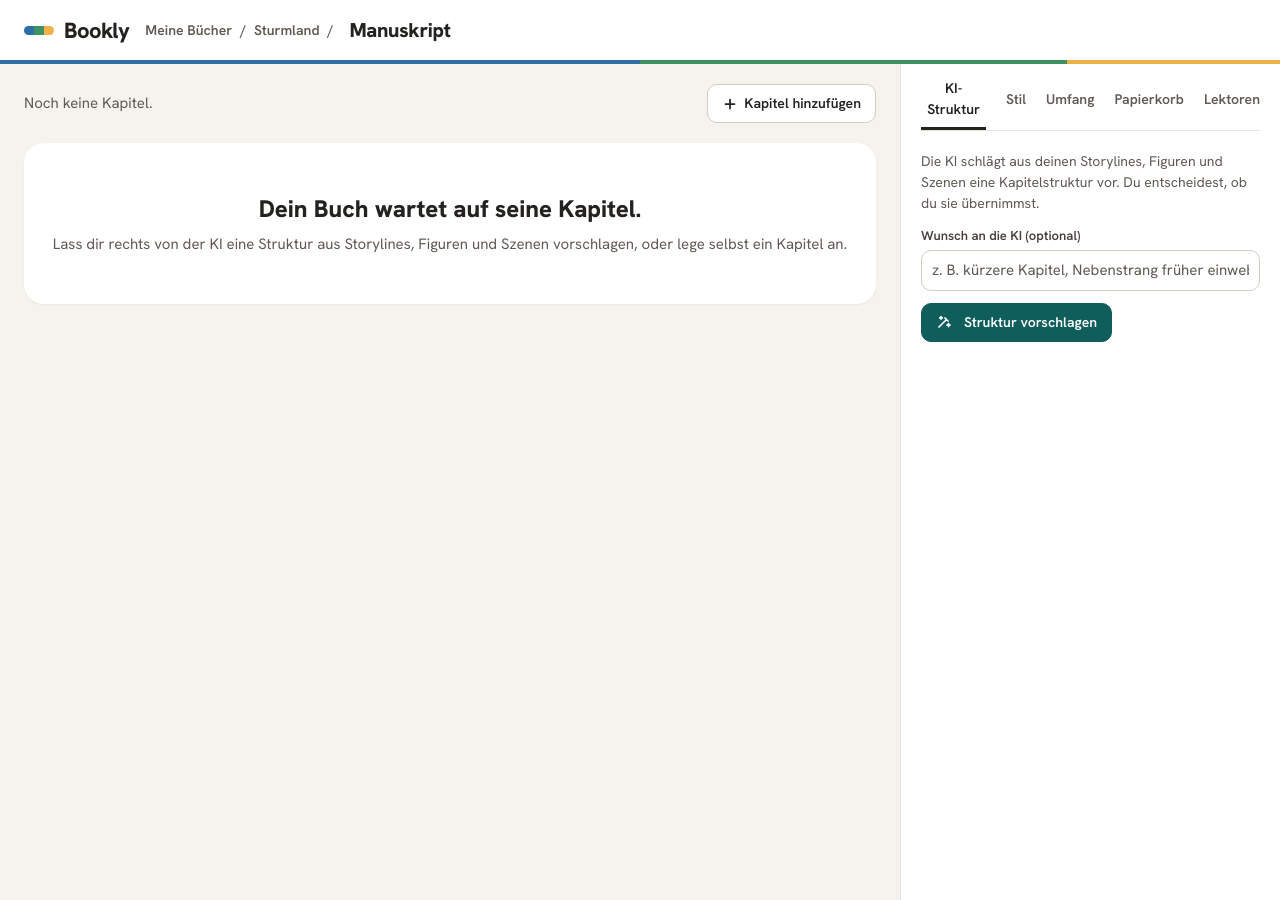
Scenario: LengthPanel › rejects min above max and empty input without a request
This screenshot has width=1280, height=900.
Click the tab "Umfang". click: point(1070, 99)
box: [1046,68,1094,130]
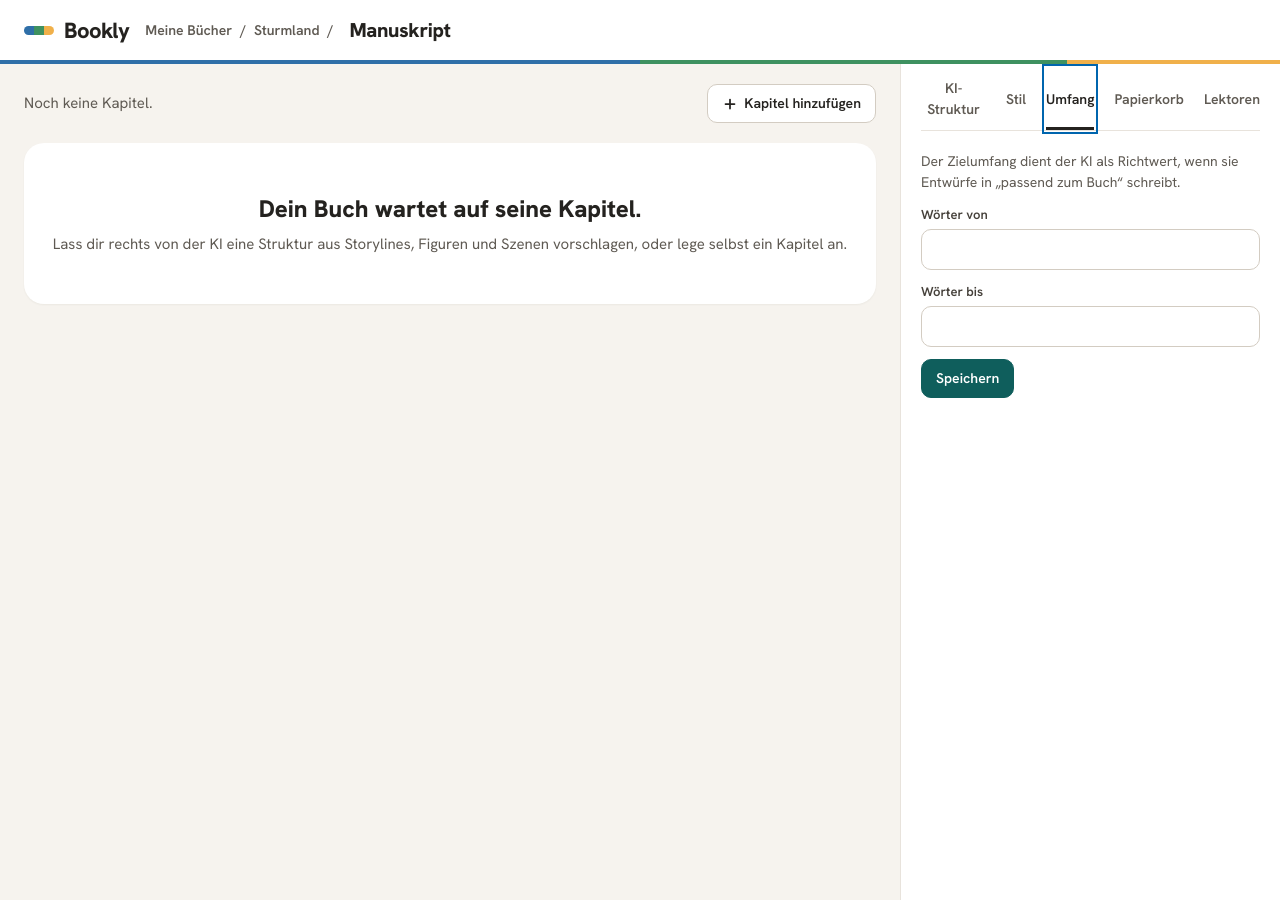
Click the button "Speichern". click: point(968, 378)
box: [921,359,1014,398]
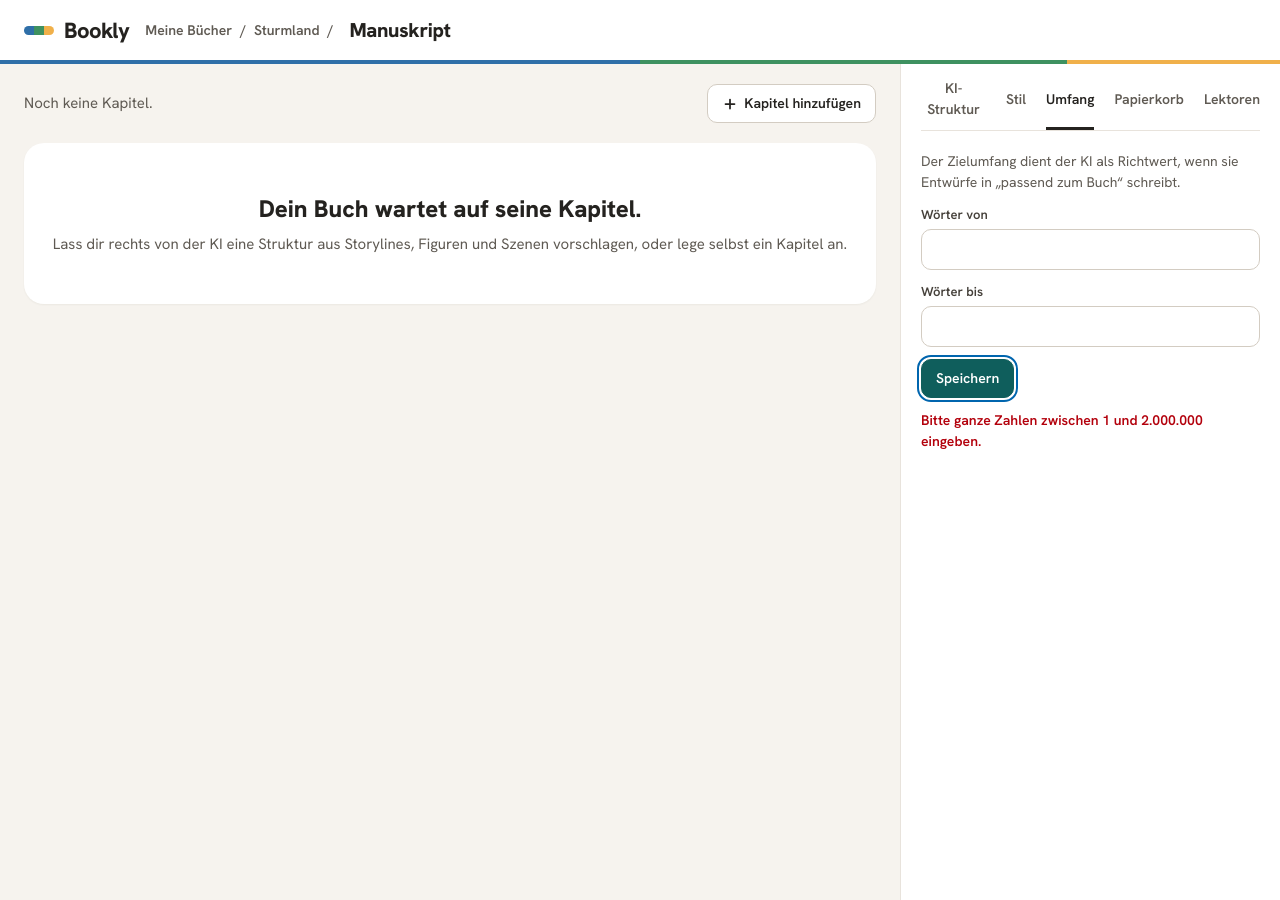
expect the message reads "Bitte ganze Zahlen zwischen 1 und 2.000.000 eingeben.": met, box [921,411,1203,450]
Type "900" into the number field labelled "Wörter von". click: point(1090, 250)
box: [921,229,1260,270]
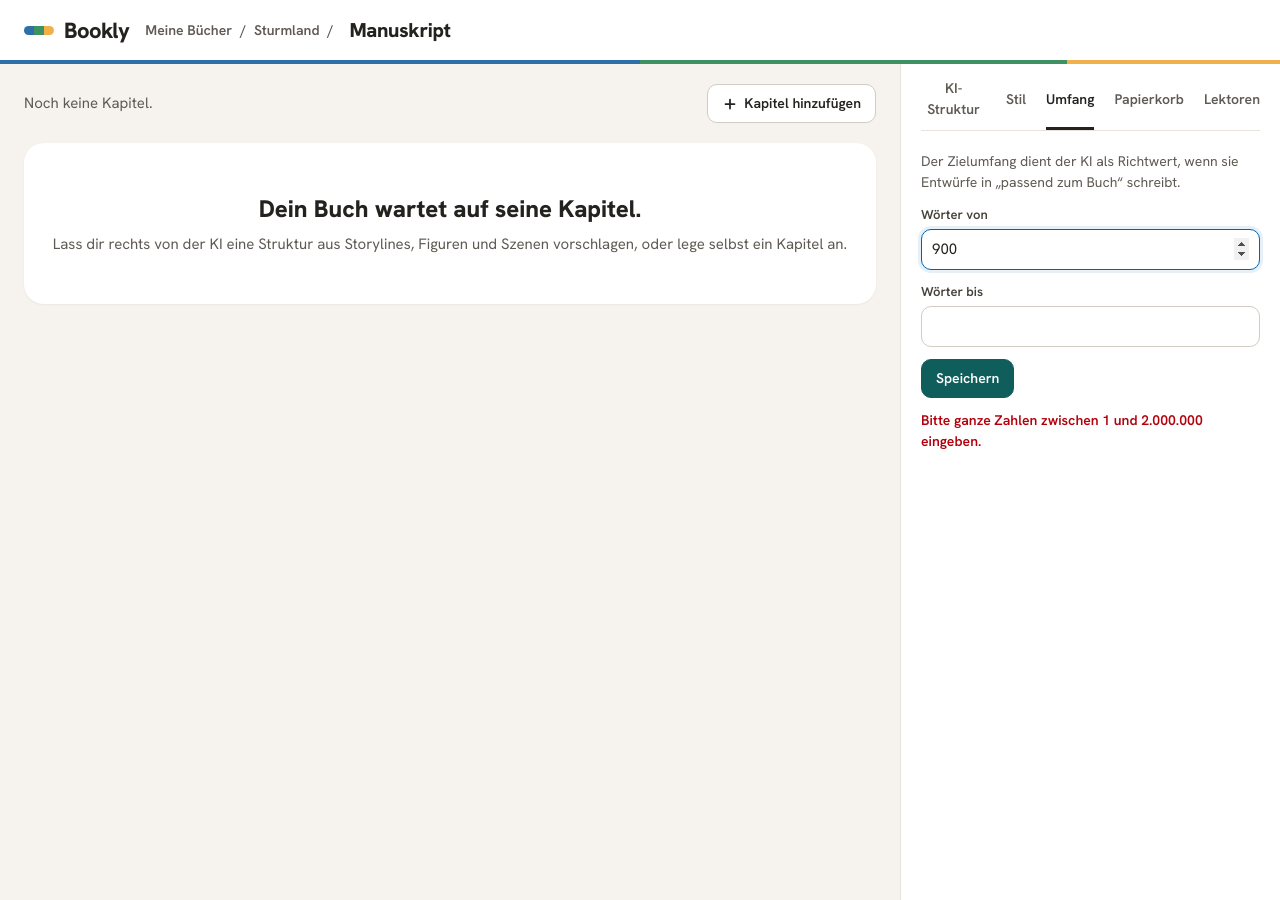
Type "100" into the number field labelled "Wörter bis". click: point(1090, 326)
box: [921,306,1260,347]
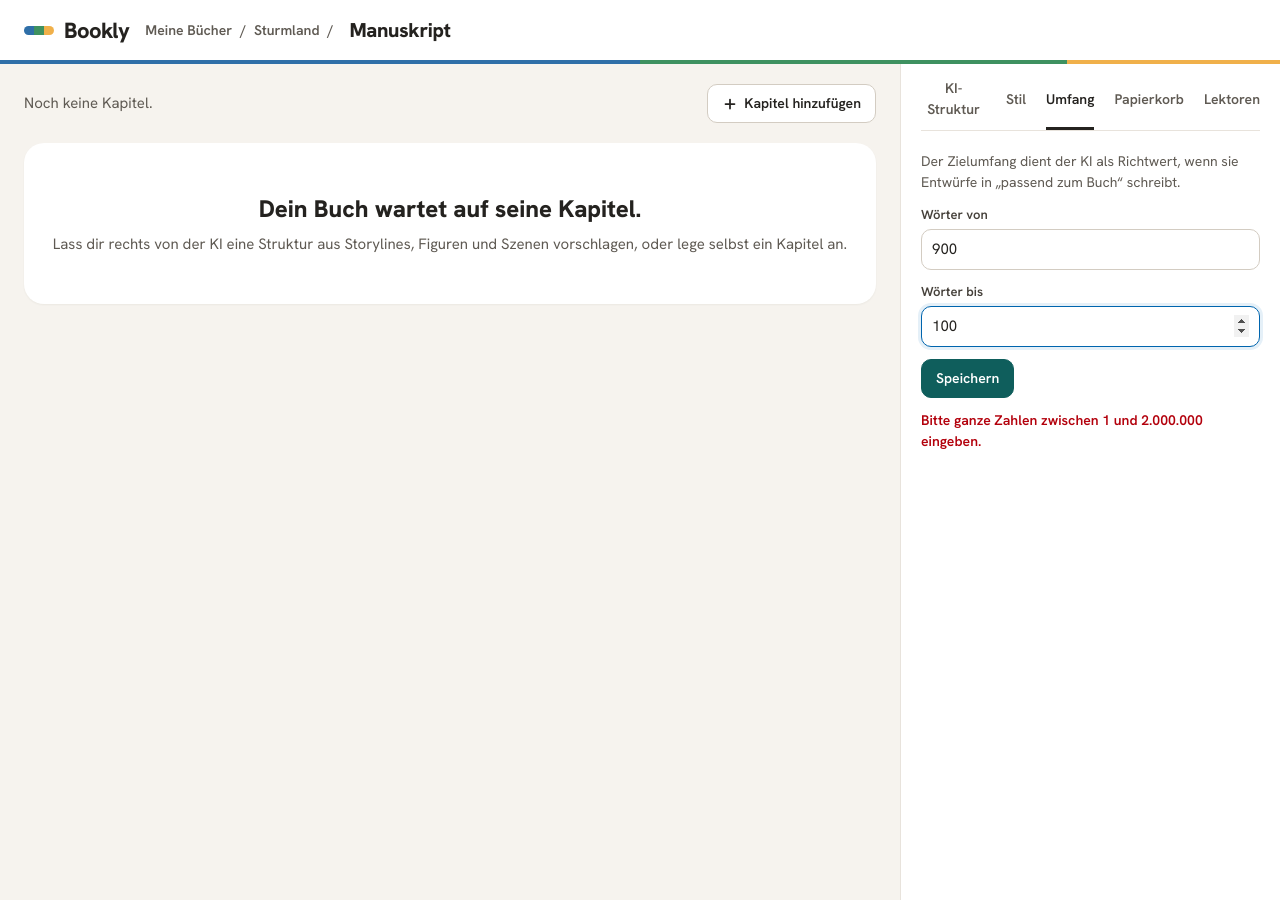
Click the button "Speichern". click: point(968, 378)
box: [921,359,1014,398]
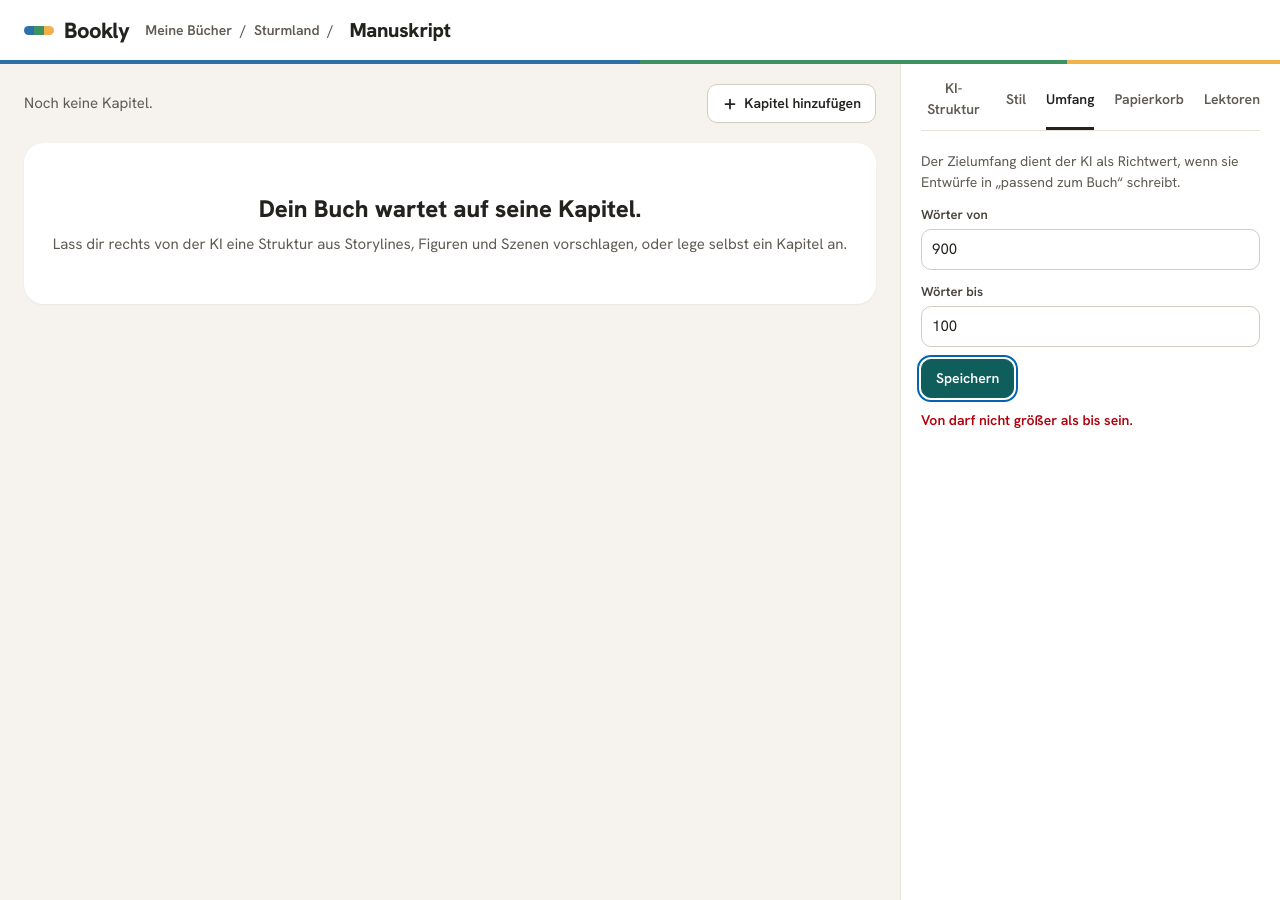
expect the message reads "Von darf nicht größer als bis sein.": met, box [921,411,1133,429]
